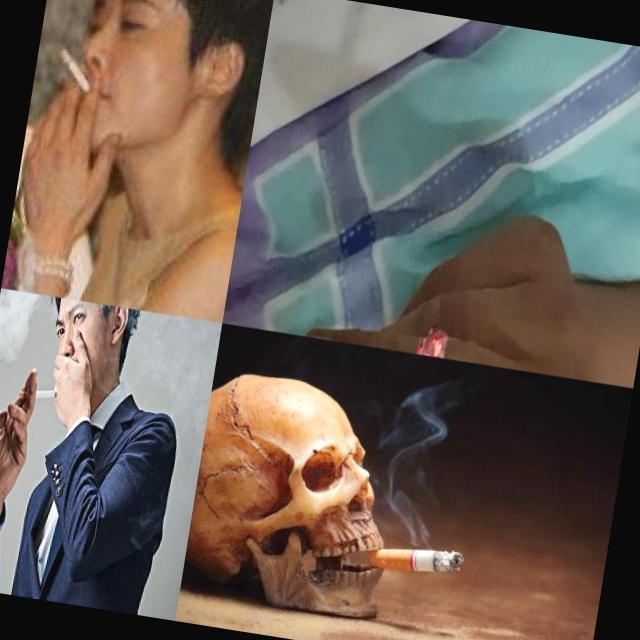smoke: (366, 538, 464, 582), (43, 32, 101, 98), (380, 314, 450, 358), (18, 385, 60, 406)
